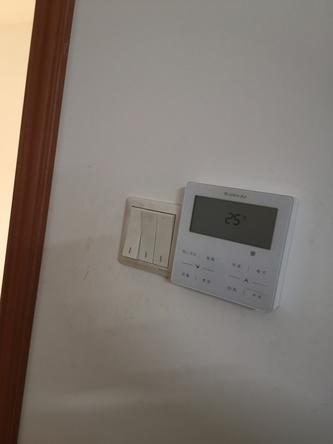switch: (150, 206, 178, 266), (119, 199, 143, 261), (137, 203, 157, 263)
